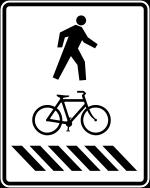Cycle Crossing: (15, 11, 140, 178)
